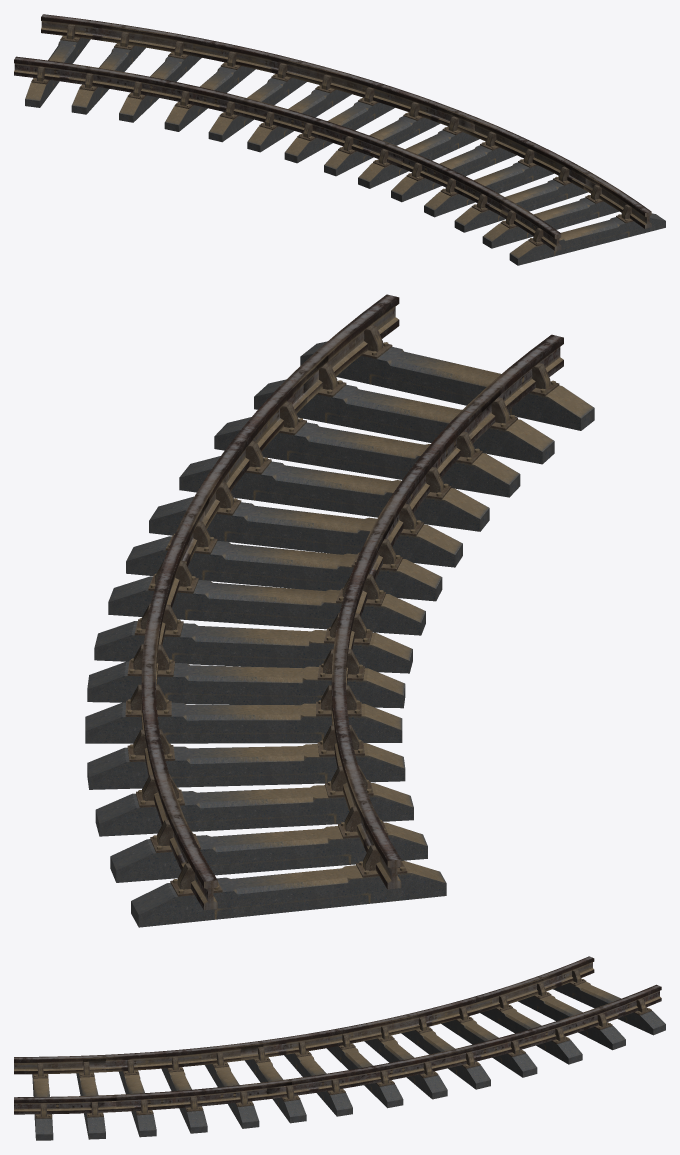
The model's file is SM_Tracks12mBend45.FBX.
The picture shows the model from 3 angles, top to bottom: view 1: azimuth 30°, elevation 25°; view 2: azimuth 150°, elevation 25°; view 3: azimuth 270°, elevation 25°; orthographic projection. The views are drawn at different scales.
Visible parts, largest first — view 1: SM_Tracks12mBend45; view 2: SM_Tracks12mBend45; view 3: SM_Tracks12mBend45.
Part boxes in pixels (box(x1,y1,x2,y2)): SM_Tracks12mBend45: box(14, 14, 665, 265); SM_Tracks12mBend45: box(85, 294, 594, 927); SM_Tracks12mBend45: box(14, 956, 665, 1140).
Size of the model in its own units: 664 by 1152 by 56.
